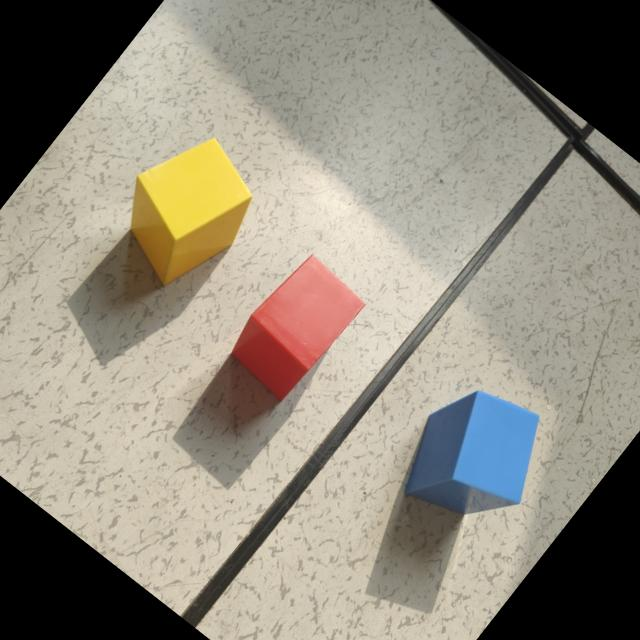blue: (401, 391, 539, 519)
red: (230, 257, 364, 402)
yellow: (128, 139, 251, 287)
